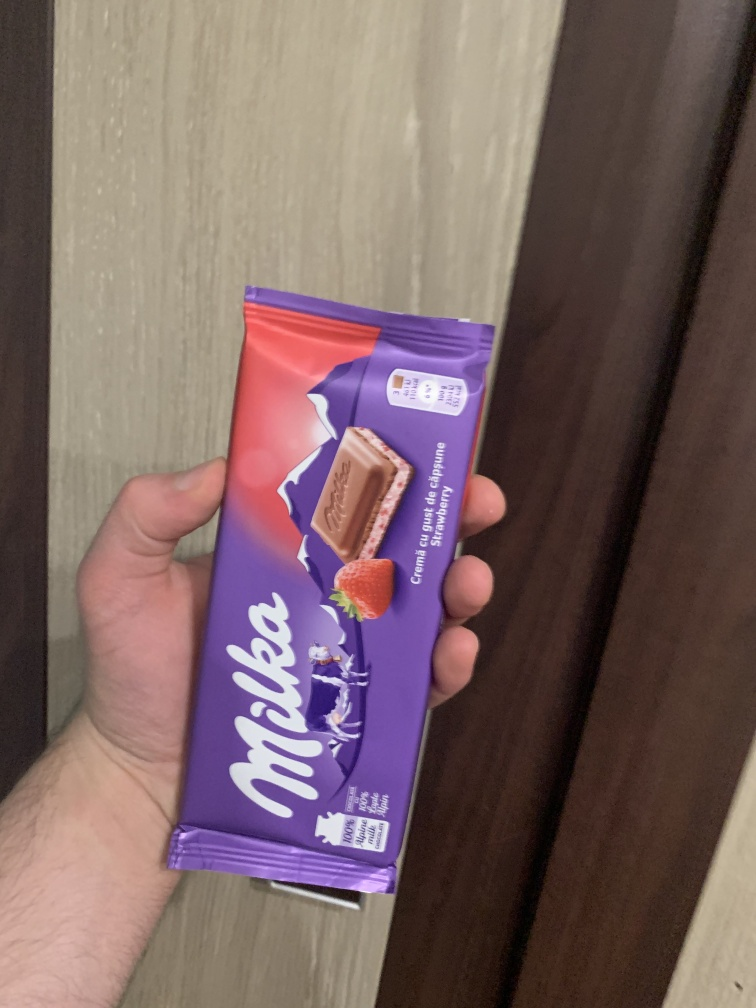milka: (163, 279, 497, 909)
